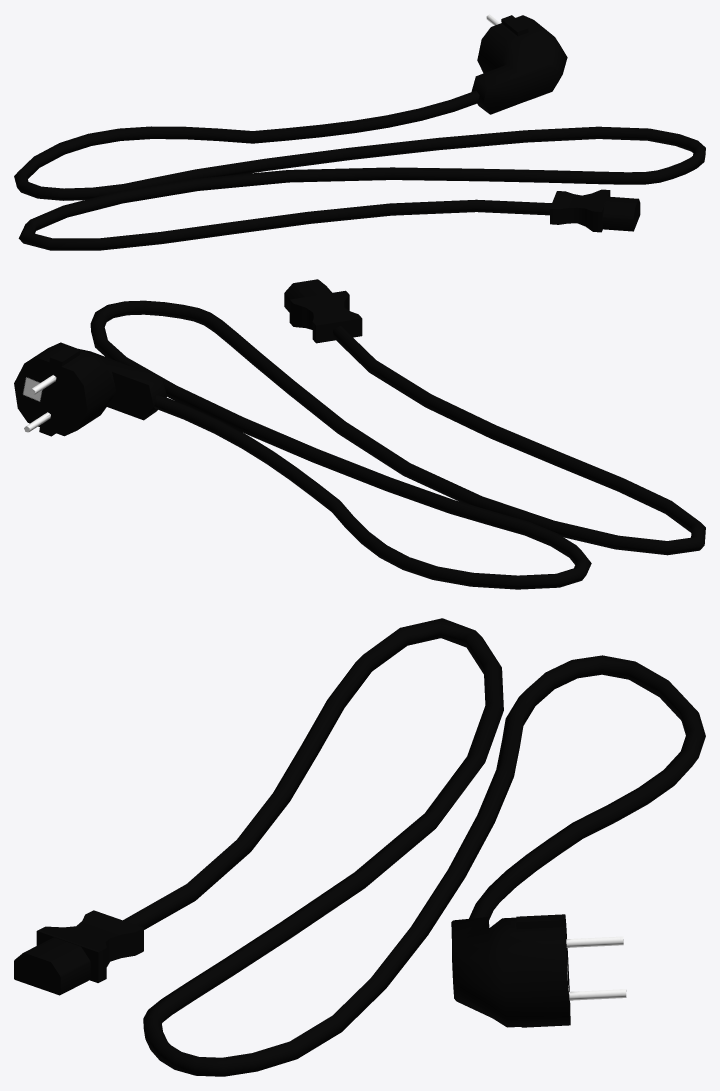
The model's file is cables.glb.
3 views of the same model, one above another, from view 1: azimuth 30°, elevation 25°; view 2: azimuth 150°, elevation 25°; view 3: azimuth 270°, elevation 25° (orthographic). The views are drawn at different scales.
Visible parts, largest first — view 1: Cylinder001; view 2: Cylinder001; view 3: Cylinder001.
Boxes of the visible parts, x1,y1,x2,y2 form: Cylinder001: (14, 14, 705, 250); Cylinder001: (14, 279, 705, 589); Cylinder001: (14, 618, 705, 1076).
Bounding box in the file's own units: 29.42 × 3.23 × 19.2.
Materials: 1 (1 with a texture image).
